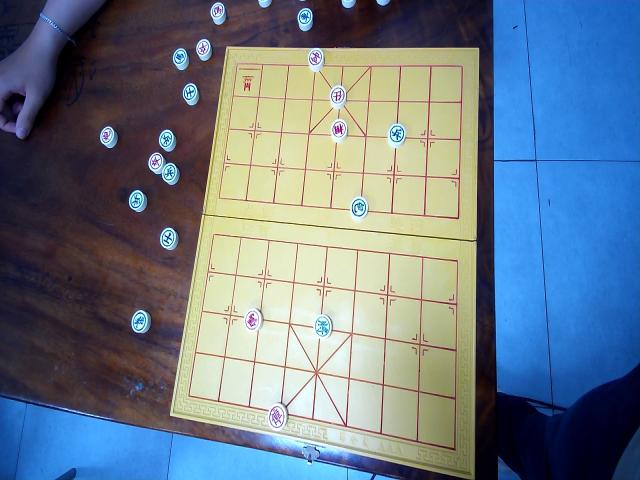piece: (267, 402, 287, 431), (130, 309, 150, 334), (387, 122, 406, 147), (313, 313, 332, 338), (243, 307, 262, 331), (159, 226, 178, 250), (158, 128, 176, 153), (161, 160, 179, 184), (350, 196, 368, 220), (128, 189, 146, 212), (329, 84, 346, 108), (307, 47, 324, 71), (297, 6, 313, 31), (148, 151, 165, 174), (209, 1, 226, 24), (100, 125, 116, 149), (331, 118, 347, 142), (196, 37, 212, 61), (172, 47, 188, 71), (182, 83, 199, 104), (340, 0, 355, 7), (258, 0, 271, 7), (376, 0, 390, 6)
